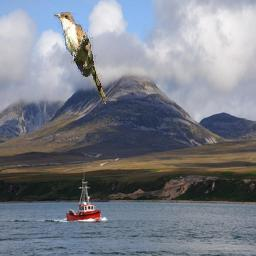Cuckoo: (54, 12, 107, 104)
